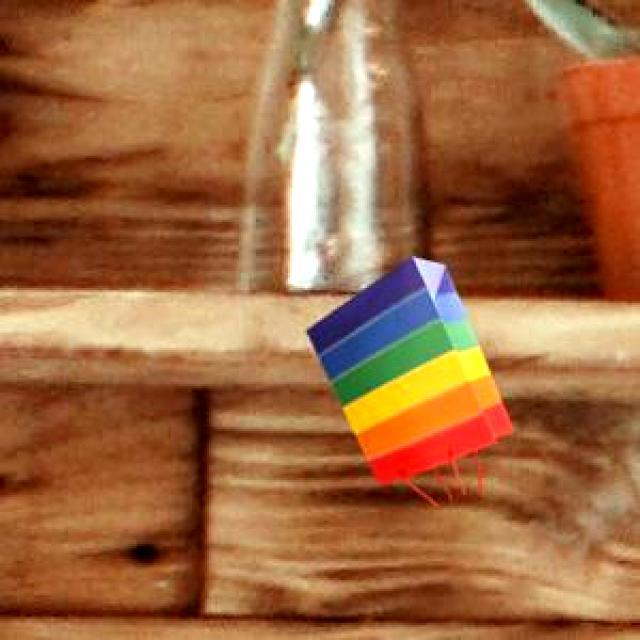Paper_Bag: (304, 255, 509, 481)
